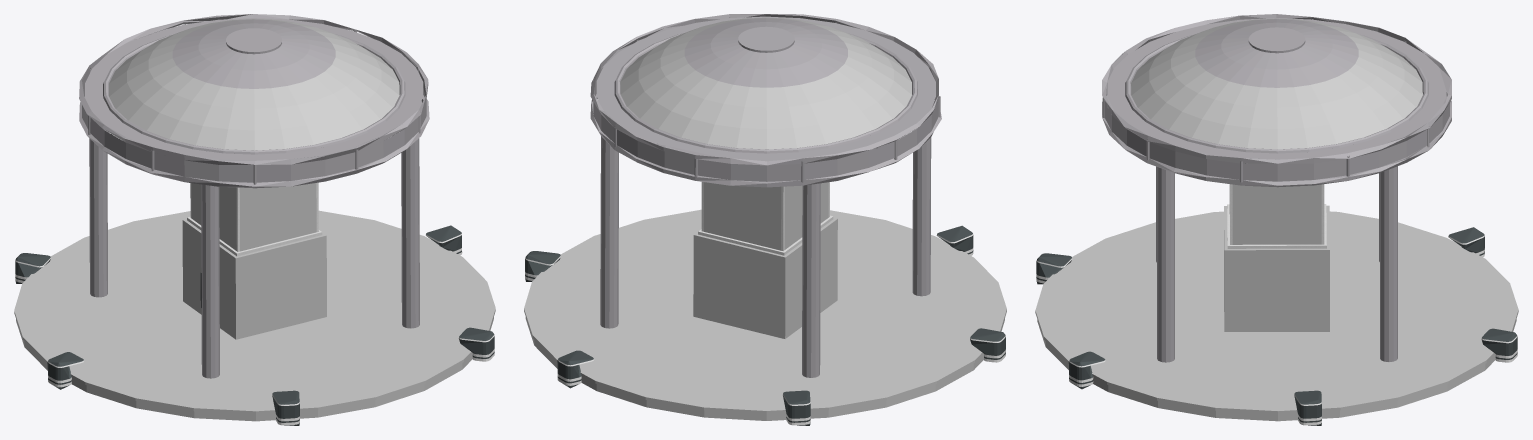
3 renders of one model, left to right at view 1: azimuth 30°, elevation 25°; view 2: azimuth 150°, elevation 25°; view 3: azimuth 270°, elevation 25°, orthographic.
Visible parts, largest first — view 1: Group_167717, Group_167674, Group_167719, Group_167652, Group_167721, D_7_50_3, Group_167713, Group_167715, Group_167709, Group_167670, Group_167672, D_7_50_1 (+6 smaller); view 2: Group_167717, Group_167674, Group_167719, Group_167652, Group_167721, D_7_50_3, Group_167709, Group_167711, Group_167664, Group_167713, D_7_50_1, D_7_50 (+7 smaller); view 3: Group_167717, Group_167674, Group_167719, Group_167652, Group_167721, D_7_50_3, Group_167715, Group_167711, Group_167668, D_7_50_1, D_7_50, Group_167666 (+6 smaller).
Part boxes in pixels (x1=…): Group_167717: x1=14, y1=210, x2=495, y2=421; Group_167674: x1=109, y1=19, x2=399, y2=150; Group_167719: x1=182, y1=216, x2=326, y2=339; Group_167652: x1=85, y1=18, x2=423, y2=160; Group_167721: x1=190, y1=182, x2=318, y2=251; D_7_50_3: x1=79, y1=14, x2=428, y2=164; Group_167713: x1=201, y1=184, x2=219, y2=378; Group_167715: x1=401, y1=138, x2=419, y2=328; Group_167709: x1=89, y1=138, x2=107, y2=297; Group_167670: x1=90, y1=117, x2=253, y2=182; Group_167672: x1=256, y1=117, x2=418, y2=182; D_7_50_1: x1=103, y1=34, x2=405, y2=154; Group_167717: x1=524, y1=209, x2=1006, y2=420; Group_167674: x1=620, y1=17, x2=911, y2=149; Group_167719: x1=693, y1=215, x2=837, y2=338; Group_167652: x1=596, y1=16, x2=935, y2=179; Group_167721: x1=701, y1=182, x2=829, y2=250; D_7_50_3: x1=590, y1=14, x2=938, y2=165; Group_167709: x1=802, y1=183, x2=820, y2=377; Group_167711: x1=600, y1=136, x2=618, y2=328; Group_167664: x1=697, y1=141, x2=894, y2=181; Group_167713: x1=912, y1=137, x2=931, y2=296; D_7_50_1: x1=614, y1=33, x2=917, y2=153; D_7_50: x1=590, y1=94, x2=941, y2=187; Group_167717: x1=1035, y1=211, x2=1518, y2=421; Group_167674: x1=1131, y1=18, x2=1422, y2=149; Group_167719: x1=1224, y1=204, x2=1329, y2=331; Group_167652: x1=1107, y1=18, x2=1446, y2=165; Group_167721: x1=1229, y1=184, x2=1324, y2=244; D_7_50_3: x1=1102, y1=14, x2=1451, y2=163; Group_167715: x1=1157, y1=167, x2=1174, y2=362; Group_167711: x1=1380, y1=166, x2=1397, y2=361; Group_167668: x1=1149, y1=142, x2=1346, y2=181; D_7_50_1: x1=1125, y1=35, x2=1428, y2=153; D_7_50: x1=1102, y1=95, x2=1451, y2=187; Group_167666: x1=1350, y1=102, x2=1449, y2=174.
Bounding box in the file's own units: 344 × 209 × 325.
